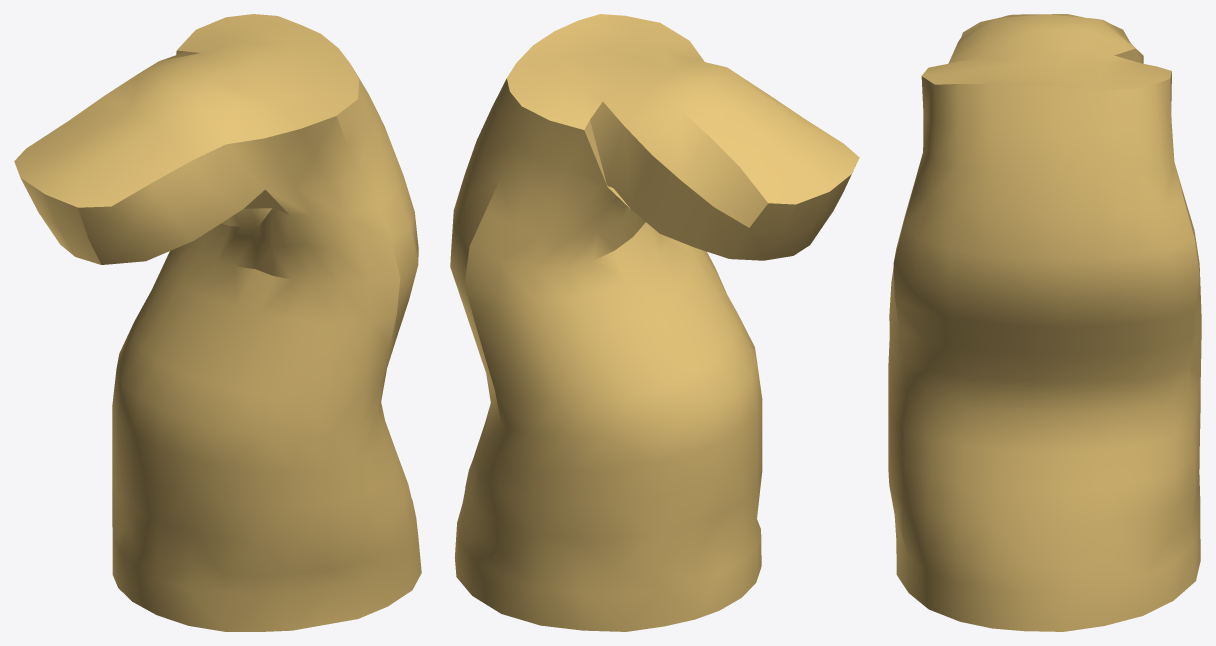
File: Knight_W.fbx
The picture shows the model from 3 angles, left to right: view 1: azimuth 30°, elevation 25°; view 2: azimuth 150°, elevation 25°; view 3: azimuth 270°, elevation 25°; orthographic projection.
Parts seen in each view (by area): view 1: Knight_W; view 2: Knight_W; view 3: Knight_W.
Part boxes in pixels (x1,y1,x2,y2): Knight_W: [14, 14, 421, 631]; Knight_W: [450, 14, 859, 631]; Knight_W: [888, 14, 1201, 631].
Size of the model in its own units: 203 by 270 by 150.
